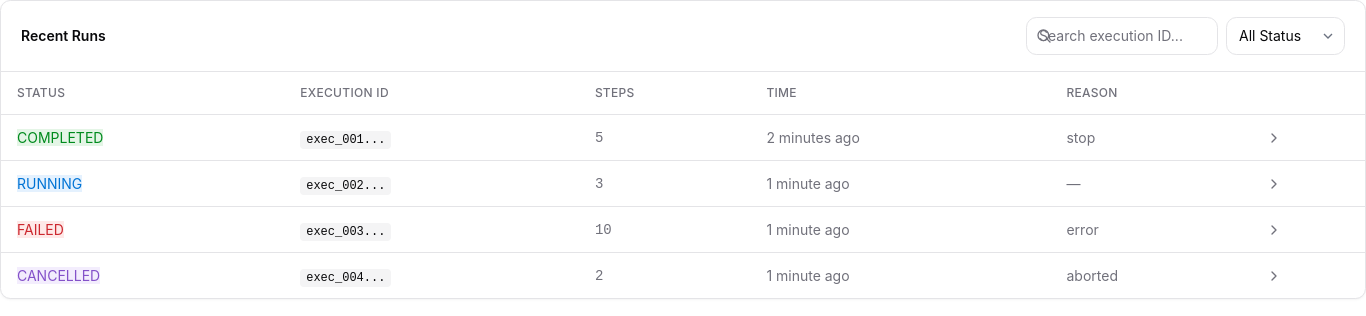
Test: RunTable Component › should show no results message when filter matches nothing
Type "nonexistent" into the field with placeholder "Search execution ID...". click: (1122, 36)
box: x1=1026 y1=17 x2=1218 y2=55
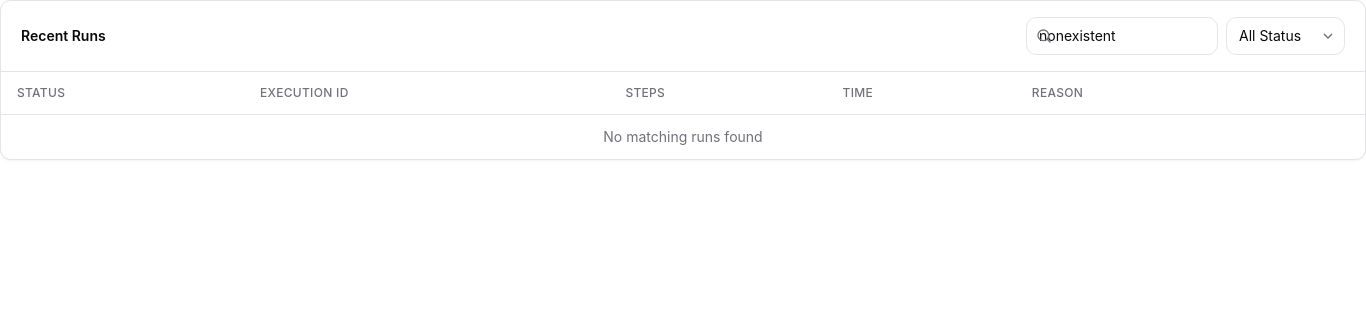
Now the text "No matching runs found" is shown, box x1=1 y1=114 x2=1365 y2=159
